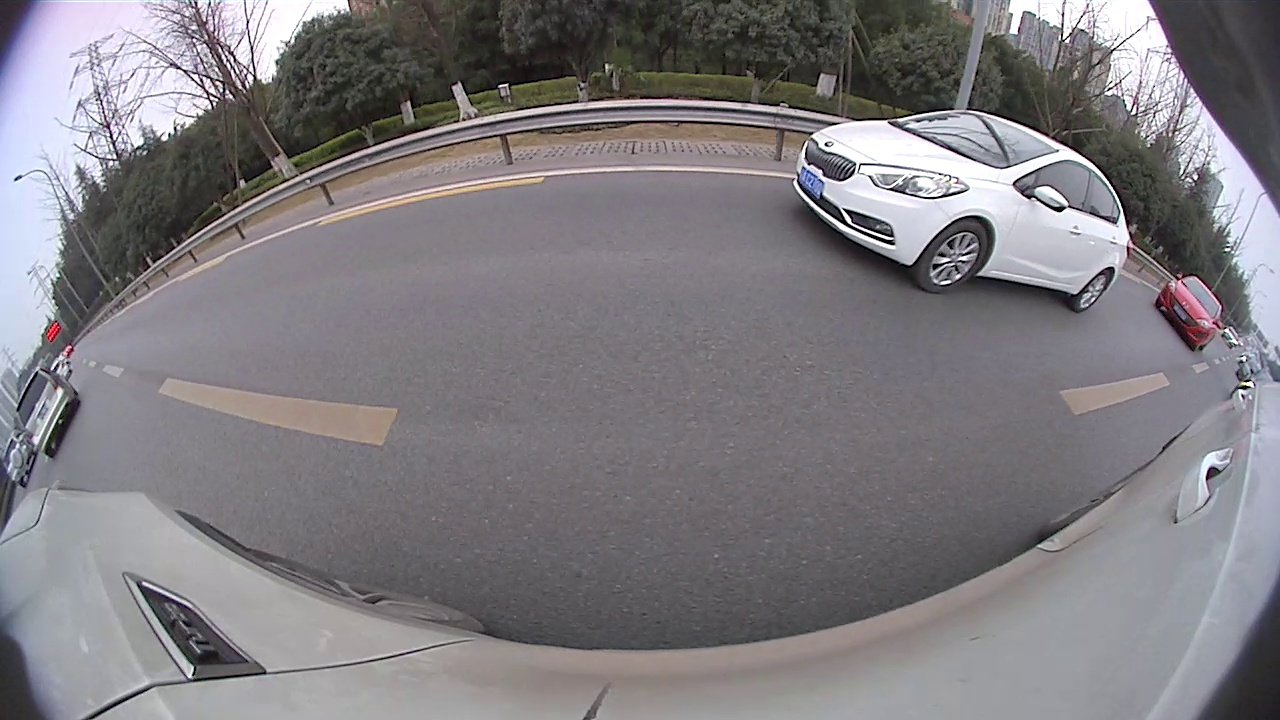car: (1, 395, 86, 485), (373, 170, 472, 231), (581, 140, 648, 201), (533, 160, 583, 196), (643, 151, 668, 184)
front: (460, 192, 472, 211)
rear: (422, 201, 438, 223)
